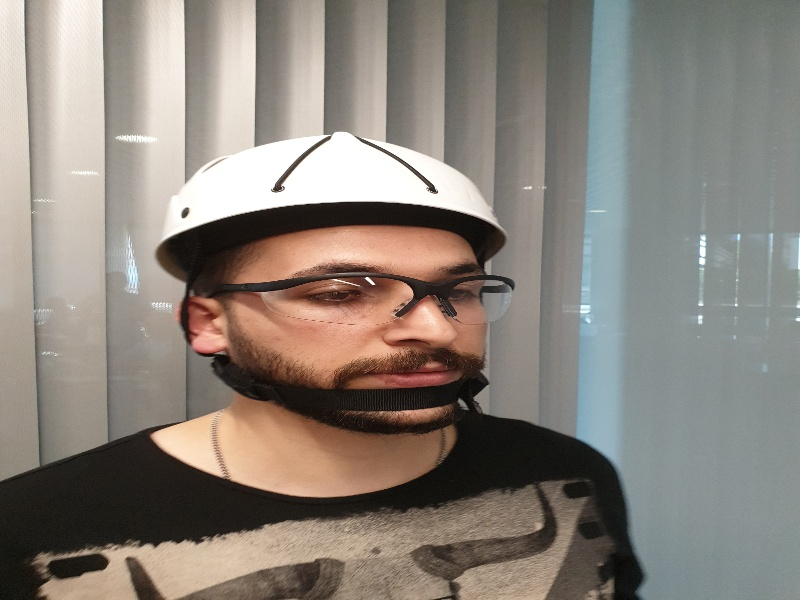Baret: (159, 130, 507, 237)
Gozluk: (224, 274, 518, 322)
